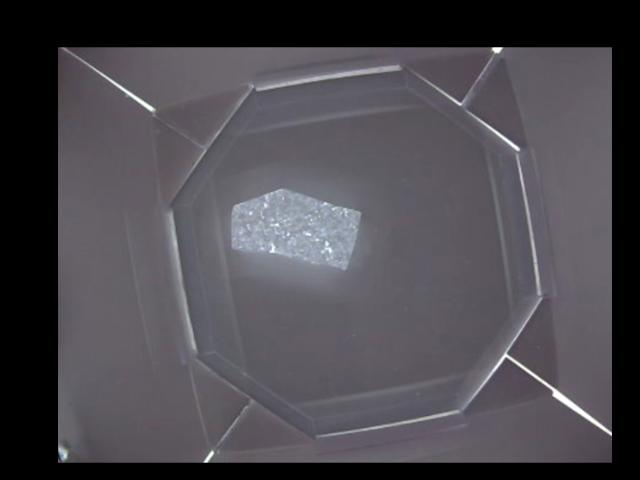China: (234, 187, 363, 271)
